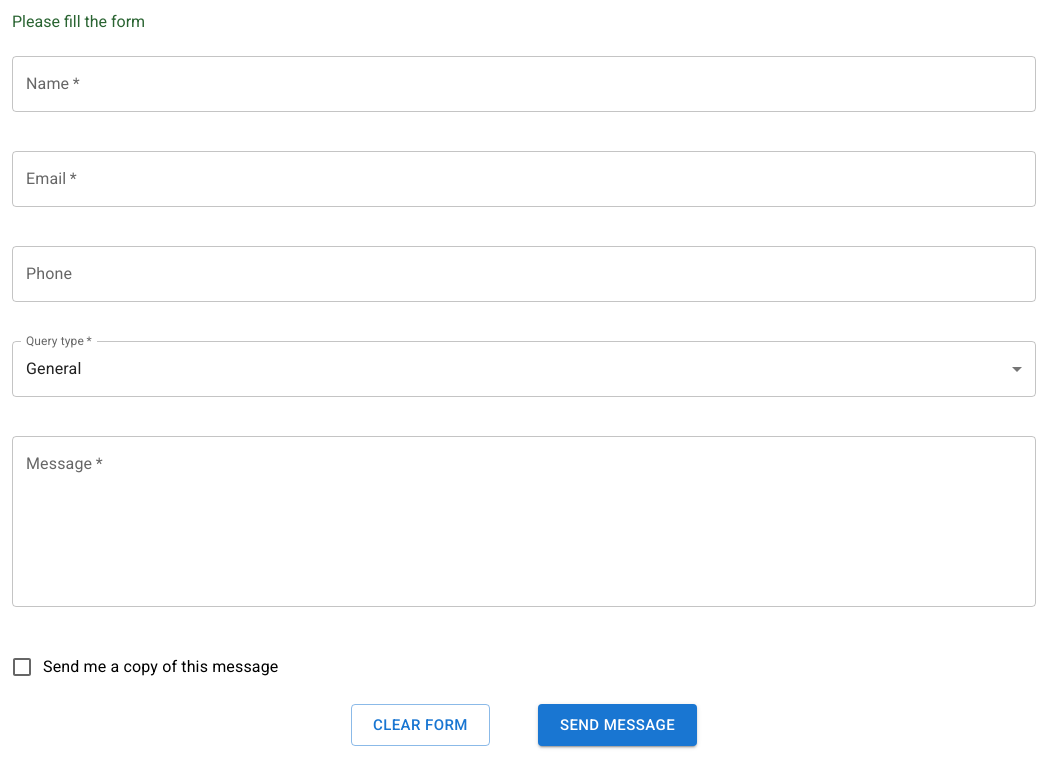
Test: ContactForm › reset › resets the phone field
Type "07700 900123" into the field labelled "Phone" at (524, 274), box [12,246,1036,302]
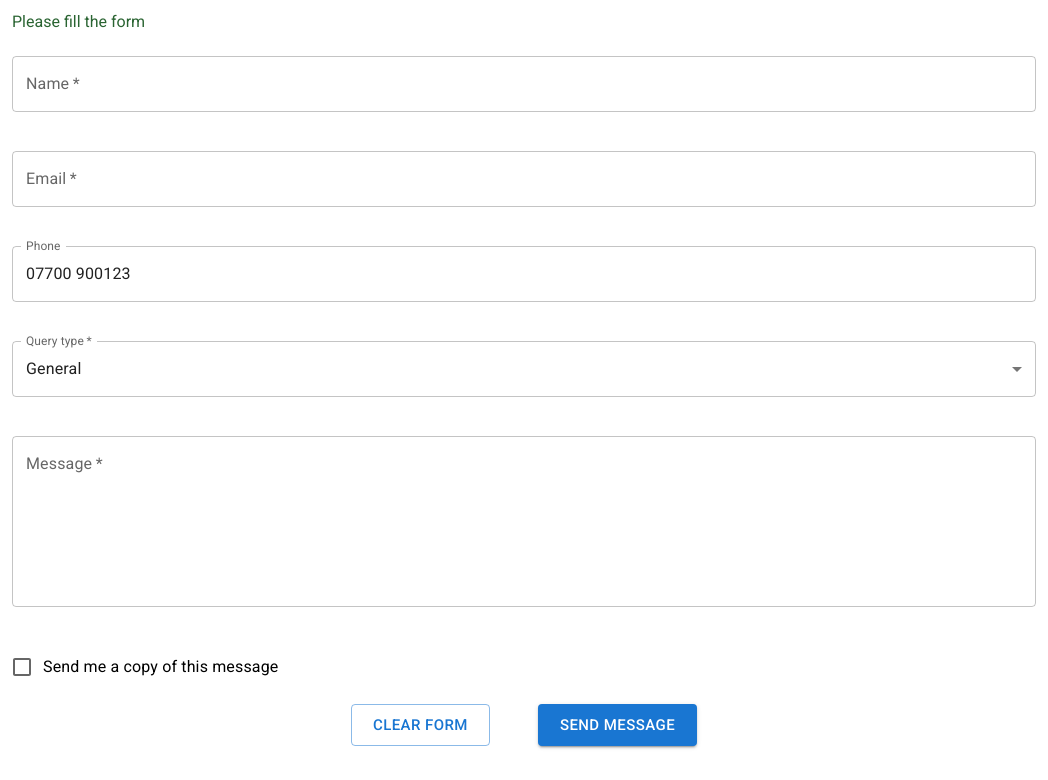
Click the button with test id "contact-form-reset-button" at (420, 725), box [351,704,490,746]
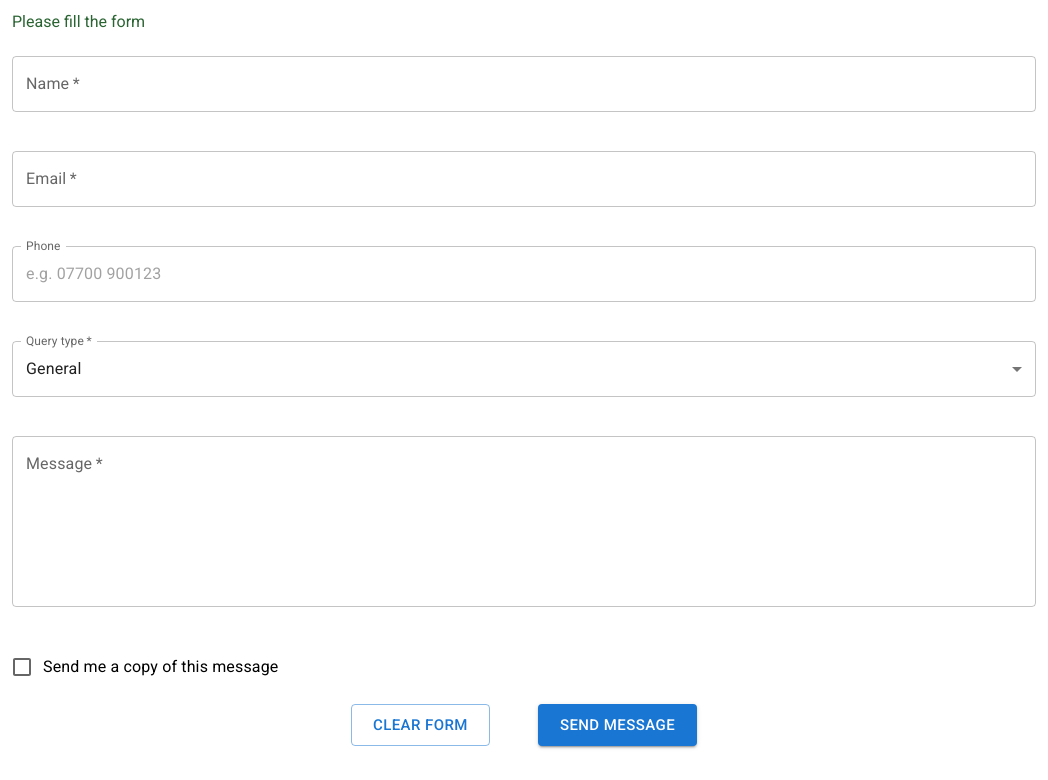
Check: the field labelled "Phone" is empty, box [12,246,1036,302]
